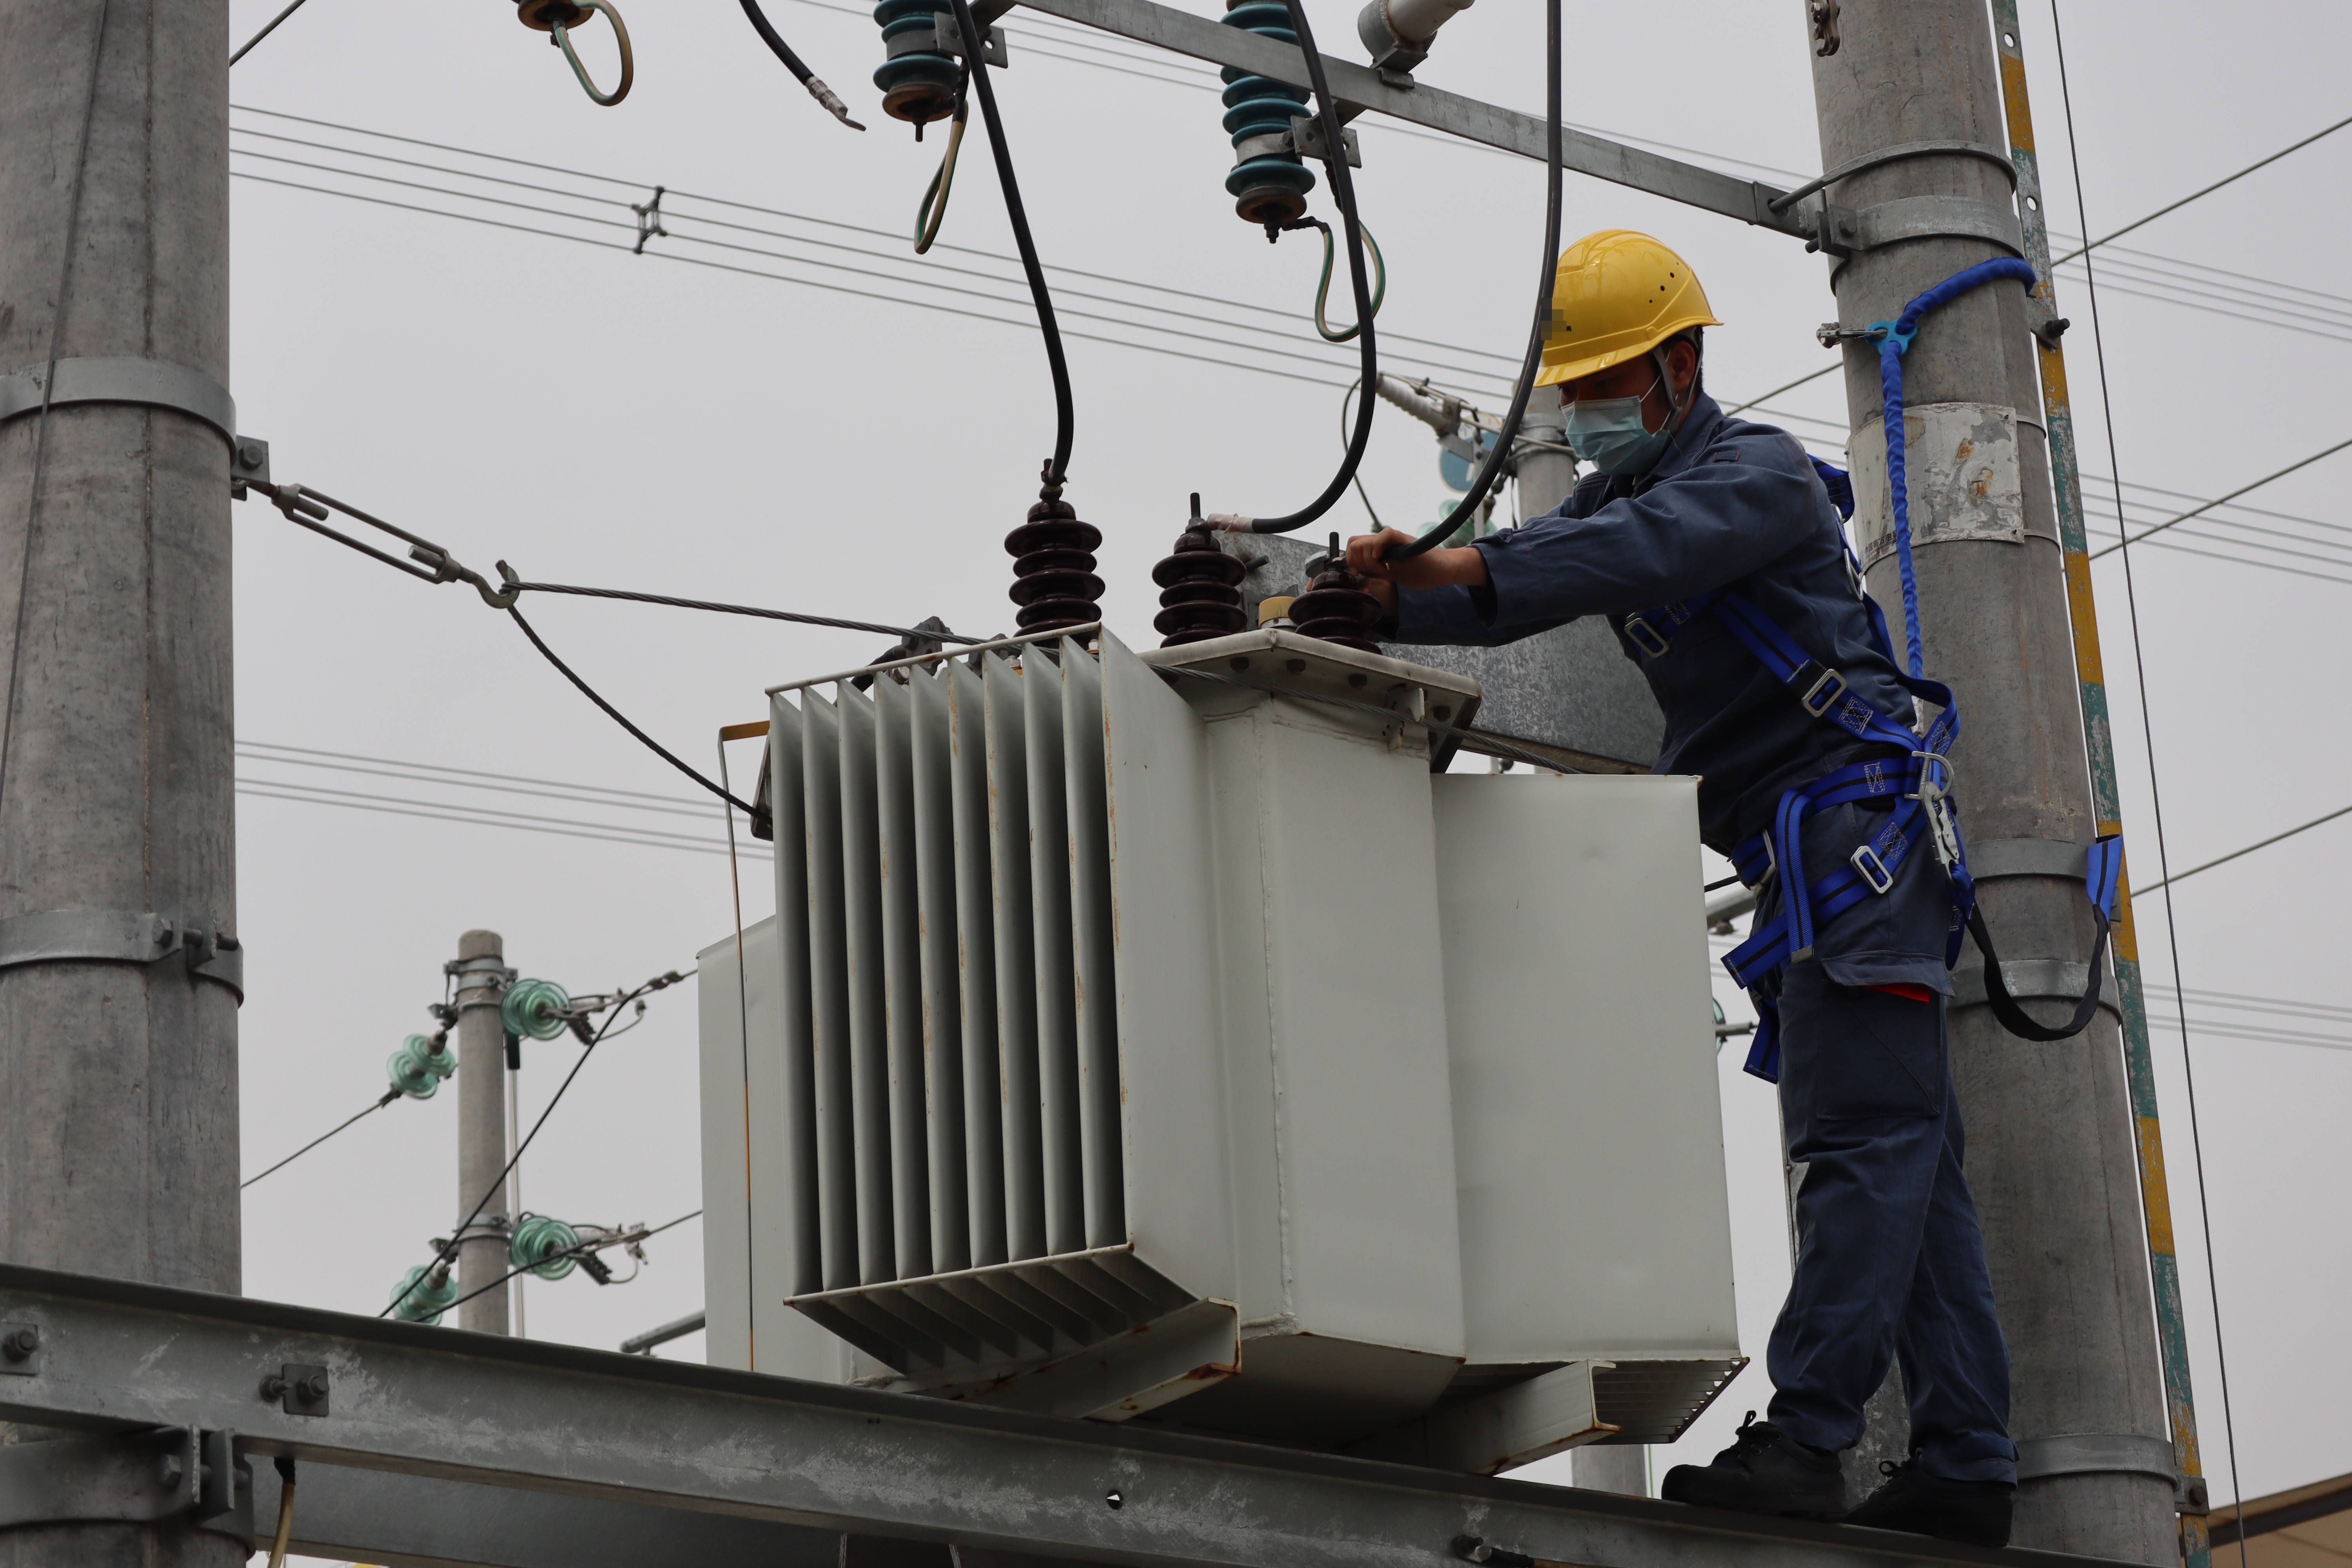downsuit: (1717, 786, 2021, 1480)
upsuit: (1395, 395, 1943, 775)
